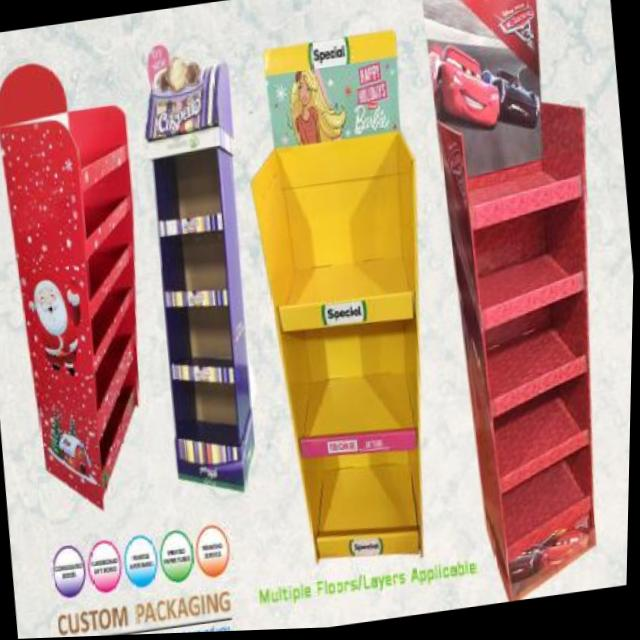box: (407, 0, 640, 612), (224, 24, 465, 592), (114, 29, 291, 549), (0, 34, 172, 534)
